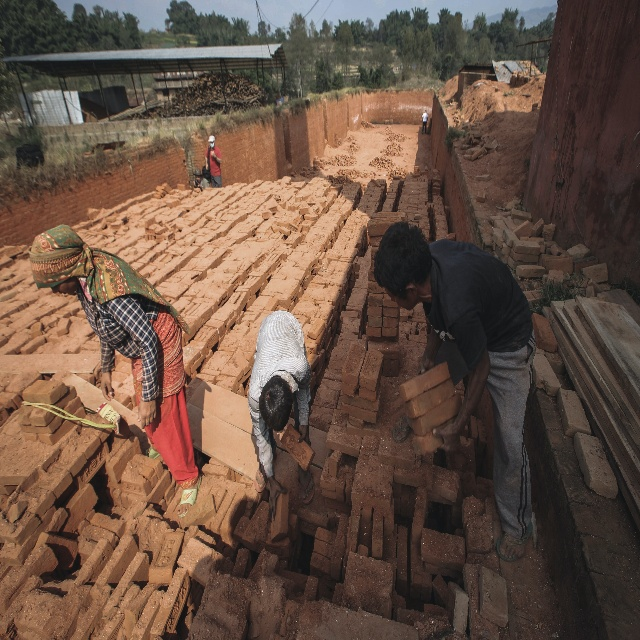Sin_guantes: (267, 482, 287, 519), (434, 424, 460, 450), (137, 401, 159, 428), (99, 370, 114, 401), (416, 352, 434, 374), (298, 423, 309, 444), (211, 149, 216, 159), (205, 163, 209, 170)
